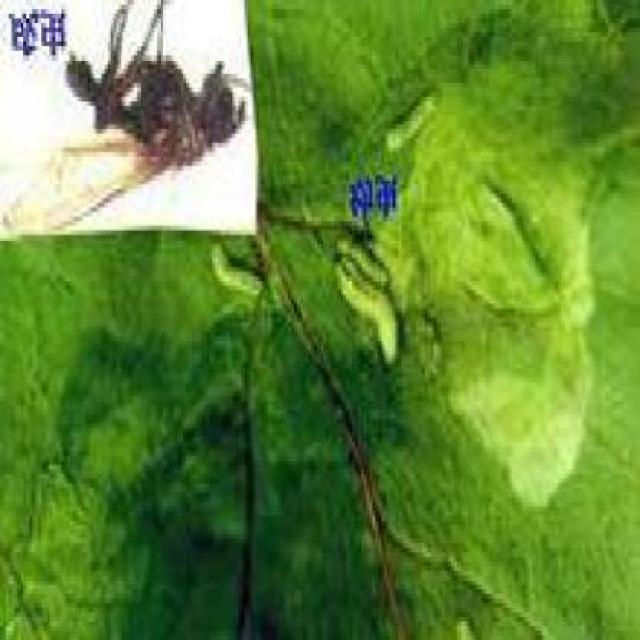whorl-maggot: (329, 234, 406, 368), (375, 83, 451, 157), (205, 238, 268, 308)
